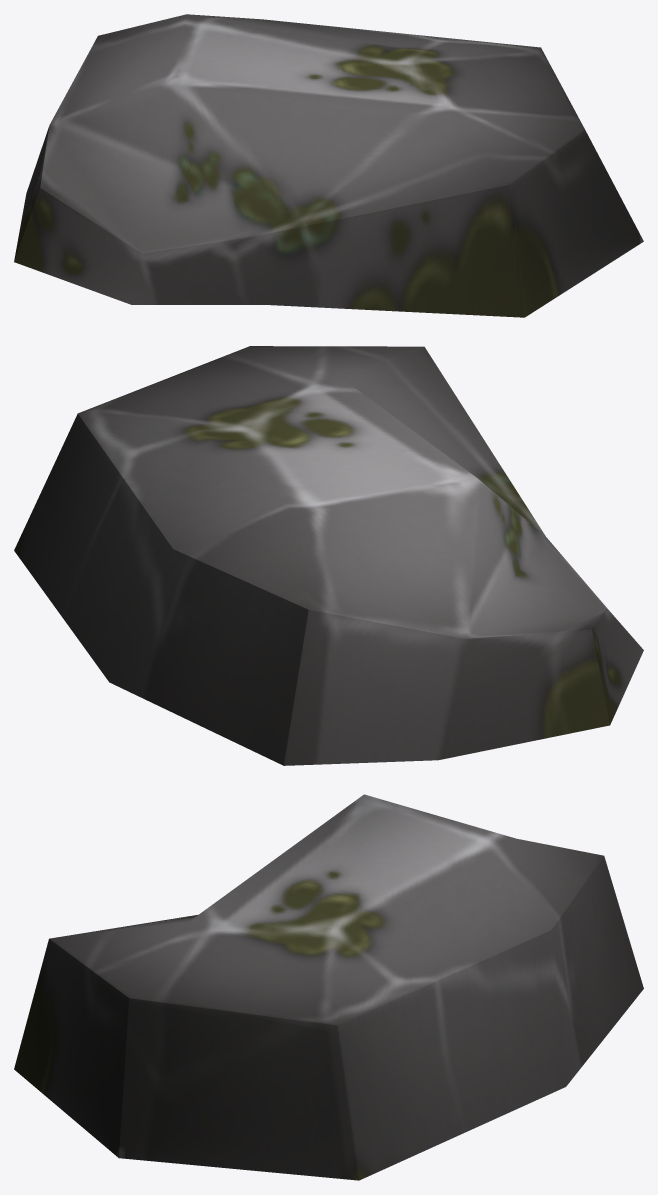
Rendered from stone03.fbx.
3 renders of one model, top to bottom at view 1: azimuth 30°, elevation 25°; view 2: azimuth 150°, elevation 25°; view 3: azimuth 270°, elevation 25°, orthographic. The views are drawn at different scales.
Parts seen in each view (by area): view 1: stone03; view 2: stone03; view 3: stone03.
Part boxes in pixels (box(x1,y1,x2,y2)): stone03: box(14, 14, 643, 317); stone03: box(14, 346, 643, 765); stone03: box(14, 794, 643, 1180).
Bounding box in the file's own units: 13.25 × 3.79 × 12.42.
Materials: 1 (1 with a texture image).
